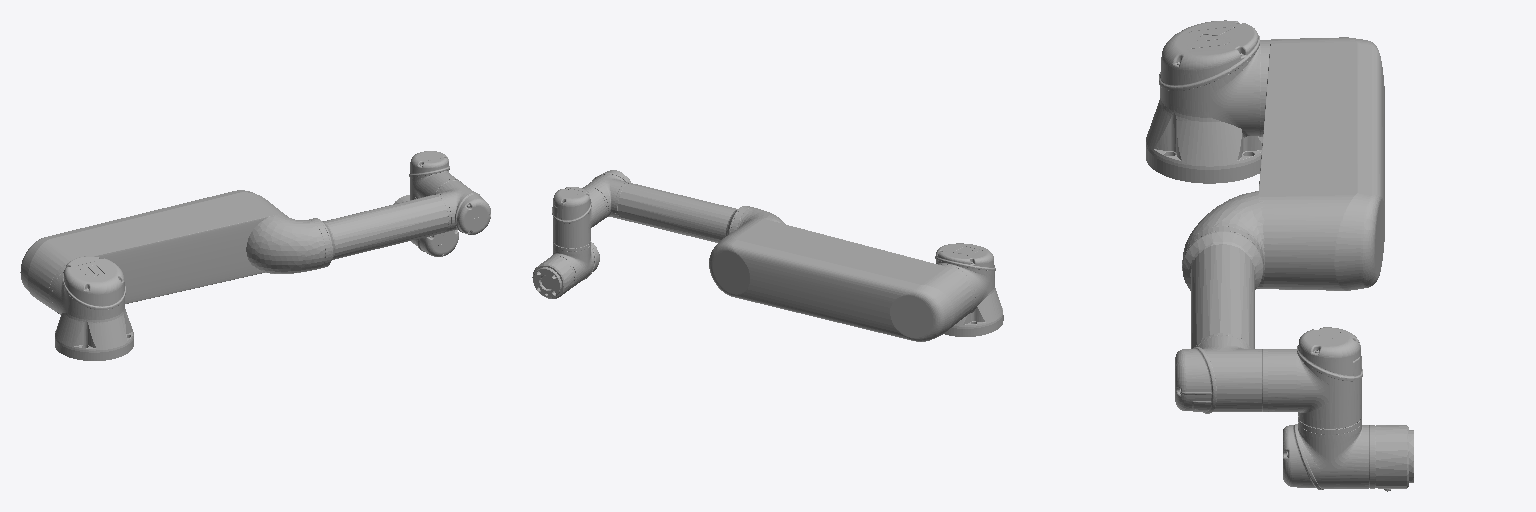
robot.urdf — ur5:
<?xml version="1.0" ?>
<!-- =================================================================================== -->
<!-- |    This document was autogenerated by xacro from ./ur_description/urdf/ur5_robot.urdf.xacro | -->
<!-- |    EDITING THIS FILE BY HAND IS NOT RECOMMENDED                                 | -->
<!-- =================================================================================== -->
<robot name="ur5" xmlns:xacro="http://ros.org/wiki/xacro">
  <gazebo>
    <plugin filename="libgazebo_ros_control.so" name="ros_control">
      <!--robotNamespace>/</robotNamespace-->
      <!--robotSimType>gazebo_ros_control/DefaultRobotHWSim</robotSimType-->
    </plugin>
    <!--
    <plugin name="gazebo_ros_power_monitor_controller" filename="libgazebo_ros_power_monitor.so">
      <alwaysOn>true</alwaysOn>
      <updateRate>1.0</updateRate>
      <timeout>5</timeout>
      <powerStateTopic>power_state</powerStateTopic>
      <powerStateRate>10.0</powerStateRate>
      <fullChargeCapacity>87.78</fullChargeCapacity>     
      <dischargeRate>-474</dischargeRate>
      <chargeRate>525</chargeRate>
      <dischargeVoltage>15.52</dischargeVoltage>
      <chargeVoltage>16.41</chargeVoltage>
    </plugin>
-->
  </gazebo>
  <!-- measured from model -->
  <!--property name="shoulder_height" value="0.089159" /-->
  <!--property name="shoulder_offset" value="0.13585" /-->
  <!-- shoulder_offset - elbow_offset + wrist_1_length = 0.10915 -->
  <!--property name="upper_arm_length" value="0.42500" /-->
  <!--property name="elbow_offset" value="0.1197" /-->
  <!-- CAD measured -->
  <!--property name="forearm_length" value="0.39225" /-->
  <!--property name="wrist_1_length" value="0.093" /-->
  <!-- CAD measured -->
  <!--property name="wrist_2_length" value="0.09465" /-->
  <!-- In CAD this distance is 0.930, but in the spec it is 0.09465 -->
  <!--property name="wrist_3_length" value="0.0823" /-->
  <!-- manually measured -->
  <link name="base_link">
    <visual>
      <geometry>
        <mesh filename="visual/base.obj"/>
      </geometry>
      <material name="LightGrey">
        <color rgba="0.7 0.7 0.7 1.0"/>
      </material>
    </visual>
    <collision>
      <geometry>
        <mesh filename="collision/base.obj"/>
      </geometry>
    </collision>
    <inertial>
      <mass value="4.0"/>
      <origin rpy="0 0 0" xyz="0.0 0.0 0.0"/>
      <inertia ixx="0.00443333156" ixy="0.0" ixz="0.0" iyy="0.00443333156" iyz="0.0" izz="0.0072"/>
    </inertial>
  </link>
  <joint name="shoulder_pan_joint" type="revolute">
    <parent link="base_link"/>
    <child link="shoulder_link"/>
    <origin rpy="0.0 0.0 0.0" xyz="0.0 0.0 8.9159"/>
    <axis xyz="0 0 1"/>
    <limit effort="150.0" lower="-6.28318530718" upper="6.28318530718" velocity="3.15"/>
    <dynamics damping="0.0" friction="0.0"/>
  </joint>
  <link name="shoulder_link">
    <visual>
      <geometry>
        <mesh filename="visual/shoulder.obj"/>
      </geometry>
      <material name="LightGrey">
        <color rgba="0.7 0.7 0.7 1.0"/>
      </material>
    </visual>
    <collision>
      <geometry>
        <mesh filename="collision/shoulder.obj"/>
      </geometry>
    </collision>
    <inertial>
      <mass value="3.7"/>
      <origin rpy="0 0 0" xyz="0.0 0.0 0.0"/>
      <inertia ixx="0.010267495893" ixy="0.0" ixz="0.0" iyy="0.010267495893" iyz="0.0" izz="0.00666"/>
    </inertial>
  </link>
  <joint name="shoulder_lift_joint" type="revolute">
    <parent link="shoulder_link"/>
    <child link="upper_arm_link"/>
    <origin rpy="0.0 1.57079632679 0.0" xyz="0.0 13.585 0.0"/>
    <axis xyz="0 1 0"/>
    <limit effort="150.0" lower="-6.28318530718" upper="6.28318530718" velocity="3.15"/>
    <dynamics damping="0.0" friction="0.0"/>
  </joint>
  <link name="upper_arm_link">
    <visual>
      <geometry>
        <mesh filename="visual/upperarm.obj"/>
      </geometry>
      <material name="LightGrey">
        <color rgba="0.7 0.7 0.7 1.0"/>
      </material>
    </visual>
    <collision>
      <geometry>
        <mesh filename="collision/upperarm.obj"/>
      </geometry>
    </collision>
    <inertial>
      <mass value="8.393"/>
      <origin rpy="0 0 0" xyz="0.0 0.0 28"/>
      <inertia ixx="0.22689067591" ixy="0.0" ixz="0.0" iyy="0.22689067591" iyz="0.0" izz="0.0151074"/>
    </inertial>
  </link>
  <joint name="elbow_joint" type="revolute">
    <parent link="upper_arm_link"/>
    <child link="forearm_link"/>
    <origin rpy="0.0 0.0 0.0" xyz="0.0 -11.97 42.5"/>
    <axis xyz="0 1 0"/>
    <limit effort="150.0" lower="-3.14159265359" upper="3.14159265359" velocity="3.15"/>
    <dynamics damping="0.0" friction="0.0"/>
  </joint>
  <link name="forearm_link">
    <visual>
      <geometry>
        <mesh filename="visual/forearm.obj"/>
      </geometry>
      <material name="LightGrey">
        <color rgba="0.7 0.7 0.7 1.0"/>
      </material>
    </visual>
    <collision>
      <geometry>
        <mesh filename="collision/forearm.obj"/>
      </geometry>
    </collision>
    <inertial>
      <mass value="2.275"/>
      <origin rpy="0 0 0" xyz="0.0 0.0 25"/>
      <inertia ixx="0.049443313556" ixy="0.0" ixz="0.0" iyy="0.049443313556" iyz="0.0" izz="0.004095"/>
    </inertial>
  </link>
  <joint name="wrist_1_joint" type="revolute">
    <parent link="forearm_link"/>
    <child link="wrist_1_link"/>
    <origin rpy="0.0 1.57079632679 0.0" xyz="0.0 0.0 39.225"/>
    <axis xyz="0 1 0"/>
    <limit effort="28.0" lower="-6.28318530718" upper="6.28318530718" velocity="3.2"/>
    <dynamics damping="0.0" friction="0.0"/>
  </joint>
  <link name="wrist_1_link">
    <visual>
      <geometry>
        <mesh filename="visual/wrist1.obj"/>
      </geometry>
      <material name="LightGrey">
        <color rgba="0.7 0.7 0.7 1.0"/>
      </material>
    </visual>
    <collision>
      <geometry>
        <mesh filename="collision/wrist1.obj"/>
      </geometry>
    </collision>
    <inertial>
      <mass value="1.219"/>
      <origin rpy="0 0 0" xyz="0.0 0.0 0.0"/>
      <inertia ixx="0.111172755531" ixy="0.0" ixz="0.0" iyy="0.111172755531" iyz="0.0" izz="0.21942"/>
    </inertial>
  </link>
  <joint name="wrist_2_joint" type="revolute">
    <parent link="wrist_1_link"/>
    <child link="wrist_2_link"/>
    <origin rpy="0.0 0.0 0.0" xyz="0.0 12.7 0.0"/>
    <axis xyz="0 0 1"/>
    <limit effort="28.0" lower="-6.28318530718" upper="6.28318530718" velocity="3.2"/>
    <dynamics damping="0.0" friction="0.0"/>
  </joint>
  <link name="wrist_2_link">
    <visual>
      <geometry>
        <mesh filename="visual/wrist2.obj"/>
      </geometry>
      <material name="LightGrey">
        <color rgba="0.7 0.7 0.7 1.0"/>
      </material>
    </visual>
    <collision>
      <geometry>
        <mesh filename="collision/wrist2.obj"/>
      </geometry>
    </collision>
    <inertial>
      <mass value="1.219"/>
      <origin rpy="0 0 0" xyz="0.0 0.0 0.0"/>
      <inertia ixx="0.111172755531" ixy="0.0" ixz="0.0" iyy="0.111172755531" iyz="0.0" izz="0.21942"/>
    </inertial>
  </link>
  <joint name="wrist_3_joint" type="revolute">
    <parent link="wrist_2_link"/>
    <child link="wrist_3_link"/>
    <origin rpy="0.0 0.0 0.0" xyz="0.0 0.0 10"/>
    <axis xyz="0 1 0"/>
    <limit effort="28.0" lower="-6.28318530718" upper="6.28318530718" velocity="3.2"/>
    <dynamics damping="0.0" friction="0.0"/>
  </joint>
  <link name="wrist_3_link">
    <visual>
      <geometry>
        <mesh filename="visual/wrist3.obj"/>
      </geometry>
      <material name="LightGrey">
        <color rgba="0.7 0.7 0.7 1.0"/>
      </material>
    </visual>
    <collision>
      <geometry>
        <mesh filename="collision/wrist3.obj"/>
      </geometry>
    </collision>
    <inertial>
      <mass value="0.1879"/>
      <origin rpy="0 0 0" xyz="0.0 0.0 0.0"/>
      <inertia ixx="0.0171364731454" ixy="0.0" ixz="0.0" iyy="0.0171364731454" iyz="0.0" izz="0.033822"/>
    </inertial>
  </link>
  <joint name="ee_fixed_joint" type="fixed">
    <parent link="wrist_3_link"/>
    <child link="ee_link"/>
    <origin rpy="0.0 0.0 1.57079632679" xyz="0.0 8.23 0.0"/>
  </joint>
  <link name="ee_link">
    <collision>
      <geometry>
        <box size="0.01 0.01 0.01"/>
      </geometry>
      <origin rpy="0 0 0" xyz="-1 0 0"/>
    </collision>
  </link>
  <transmission name="shoulder_pan_trans">
    <type>transmission_interface/SimpleTransmission</type>
    <joint name="shoulder_pan_joint">
      <hardwareInterface>hardware_interface/PositionJointInterface</hardwareInterface>
    </joint>
    <actuator name="shoulder_pan_motor">
      <mechanicalReduction>1</mechanicalReduction>
    </actuator>
  </transmission>
  <transmission name="shoulder_lift_trans">
    <type>transmission_interface/SimpleTransmission</type>
    <joint name="shoulder_lift_joint">
      <hardwareInterface>hardware_interface/PositionJointInterface</hardwareInterface>
    </joint>
    <actuator name="shoulder_lift_motor">
      <mechanicalReduction>1</mechanicalReduction>
    </actuator>
  </transmission>
  <transmission name="elbow_trans">
    <type>transmission_interface/SimpleTransmission</type>
    <joint name="elbow_joint">
      <hardwareInterface>hardware_interface/PositionJointInterface</hardwareInterface>
    </joint>
    <actuator name="elbow_motor">
      <mechanicalReduction>1</mechanicalReduction>
    </actuator>
  </transmission>
  <transmission name="wrist_1_trans">
    <type>transmission_interface/SimpleTransmission</type>
    <joint name="wrist_1_joint">
      <hardwareInterface>hardware_interface/PositionJointInterface</hardwareInterface>
    </joint>
    <actuator name="wrist_1_motor">
      <mechanicalReduction>1</mechanicalReduction>
    </actuator>
  </transmission>
  <transmission name="wrist_2_trans">
    <type>transmission_interface/SimpleTransmission</type>
    <joint name="wrist_2_joint">
      <hardwareInterface>hardware_interface/PositionJointInterface</hardwareInterface>
    </joint>
    <actuator name="wrist_2_motor">
      <mechanicalReduction>1</mechanicalReduction>
    </actuator>
  </transmission>
  <transmission name="wrist_3_trans">
    <type>transmission_interface/SimpleTransmission</type>
    <joint name="wrist_3_joint">
      <hardwareInterface>hardware_interface/PositionJointInterface</hardwareInterface>
    </joint>
    <actuator name="wrist_3_motor">
      <mechanicalReduction>1</mechanicalReduction>
    </actuator>
  </transmission>
  <gazebo reference="shoulder_link">
    <selfCollide>true</selfCollide>
  </gazebo>
  <gazebo reference="upper_arm_link">
    <selfCollide>true</selfCollide>
  </gazebo>
  <gazebo reference="forearm_link">
    <selfCollide>true</selfCollide>
  </gazebo>
  <gazebo reference="wrist_1_link">
    <selfCollide>true</selfCollide>
  </gazebo>
  <gazebo reference="wrist_3_link">
    <selfCollide>true</selfCollide>
  </gazebo>
  <gazebo reference="wrist_2_link">
    <selfCollide>true</selfCollide>
  </gazebo>
  <gazebo reference="ee_link">
    <selfCollide>true</selfCollide>
  </gazebo>
  <!-- ROS base_link to UR 'Base' Coordinates transform -->
  <link name="base"/>
  <joint name="base_link-base_fixed_joint" type="fixed">
    <!-- NOTE: this rotation is only needed as long as base_link itself is
                 not corrected wrt the real robot (ie: rotated over 180
                 degrees)
      -->
    <origin rpy="0 0 -3.14159265359" xyz="0 0 0"/>
    <parent link="base_link"/>
    <child link="base"/>
  </joint>
  <!-- Frame coincident with all-zeros TCP on UR controller -->
  <link name="tool0"/>
  <joint name="wrist_3_link-tool0_fixed_joint" type="fixed">
    <origin rpy="-1.57079632679 0 0" xyz="0 8.23 0"/>
    <parent link="wrist_3_link"/>
    <child link="tool0"/>
  </joint>
  <link name="world"/>
  <joint name="world_joint" type="fixed">
    <parent link="world"/>
    <child link="base_link"/>
    <origin rpy="0.0 0.0 0.0" xyz="0.0 0.0 0.0"/>
  </joint>
</robot>

--- Facts derived from the render (not from the file) ---
Views: 3 orthographic renders of the robot side by side, from view 1: azimuth 30°, elevation 25°; view 2: azimuth 150°, elevation 25°; view 3: azimuth 270°, elevation 25°.
Model ur5 with 11 links and 10 joints (6 revolute, 4 fixed), rooted at world, posed every joint at zero.
Visible links, largest first — view 1: upper_arm_link, forearm_link, shoulder_link, base_link, wrist_1_link, wrist_2_link; view 2: upper_arm_link, forearm_link, wrist_1_link, shoulder_link, base_link, wrist_3_link, wrist_2_link; view 3: upper_arm_link, forearm_link, shoulder_link, wrist_1_link, base_link, wrist_2_link, wrist_3_link.
Boxes of the visible links, left/top/right/bottom form: upper_arm_link: left=20, top=190, right=287, bottom=311; forearm_link: left=246, top=179, right=490, bottom=273; shoulder_link: left=49, top=256, right=125, bottom=319; base_link: left=55, top=303, right=133, bottom=360; wrist_1_link: left=409, top=151, right=461, bottom=199; wrist_2_link: left=411, top=230, right=458, bottom=256; upper_arm_link: left=709, top=218, right=972, bottom=341; forearm_link: left=582, top=170, right=784, bottom=242; wrist_1_link: left=552, top=187, right=606, bottom=251; shoulder_link: left=935, top=243, right=995, bottom=316; base_link: left=944, top=278, right=1003, bottom=336; wrist_3_link: left=532, top=257, right=574, bottom=298; wrist_2_link: left=550, top=242, right=599, bottom=287; upper_arm_link: left=1259, top=37, right=1384, bottom=290; forearm_link: left=1175, top=191, right=1267, bottom=413; shoulder_link: left=1159, top=20, right=1270, bottom=137; wrist_1_link: left=1268, top=327, right=1362, bottom=434; base_link: left=1146, top=94, right=1262, bottom=183; wrist_2_link: left=1283, top=422, right=1375, bottom=489; wrist_3_link: left=1376, top=425, right=1413, bottom=491.
Bounding box of the posed robot: 93.21 × 31.76 × 21.5 m (x, y, z).
7 mesh visuals loaded from 7 distinct referenced files (7 OBJ).